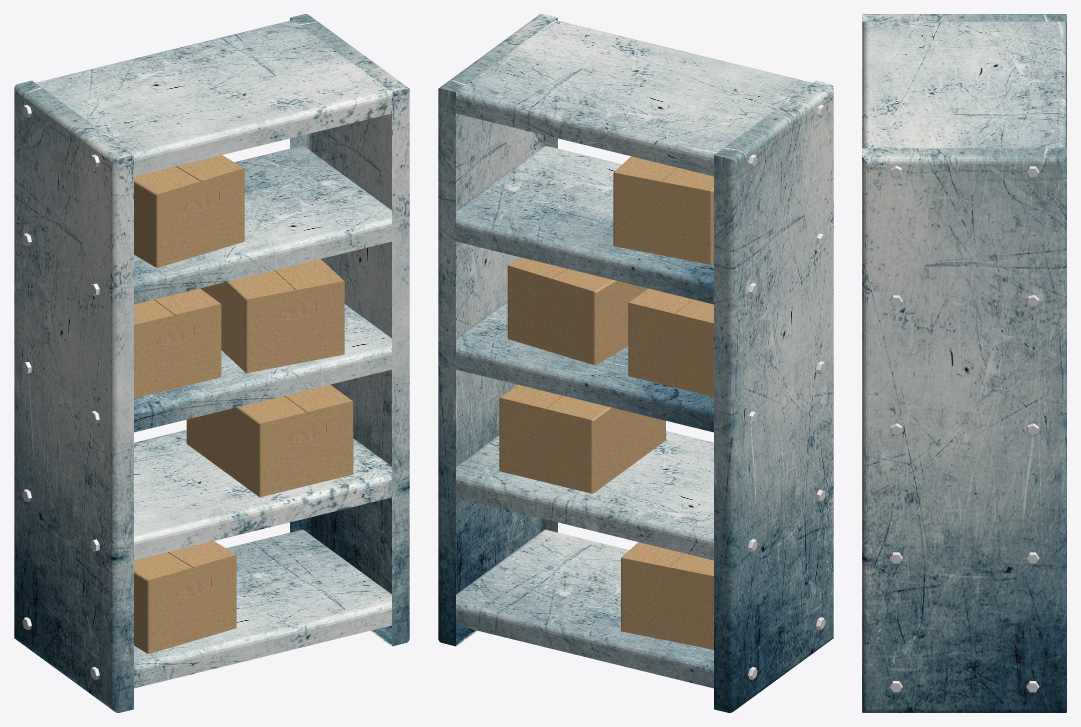
File: metal_storage_cabinet.glb
3 views of the same model, side by side, from view 1: azimuth 30°, elevation 25°; view 2: azimuth 150°, elevation 25°; view 3: azimuth 270°, elevation 25° (orthographic).
Visible parts, largest first — view 1: Material2 (×9); view 2: Material2 (×9); view 3: Material2 (×3).
Part boxes in pixels (x1=…): Material2 (×9): x1=14, y1=14, x2=409, y2=712; Material2 (×9): x1=438, y1=14, x2=833, y2=712; Material2 (×3): x1=862, y1=14, x2=1066, y2=712.
Size of the model in its own units: 41.56 by 72 by 24.
Materials: 5 (2 with a texture image).
